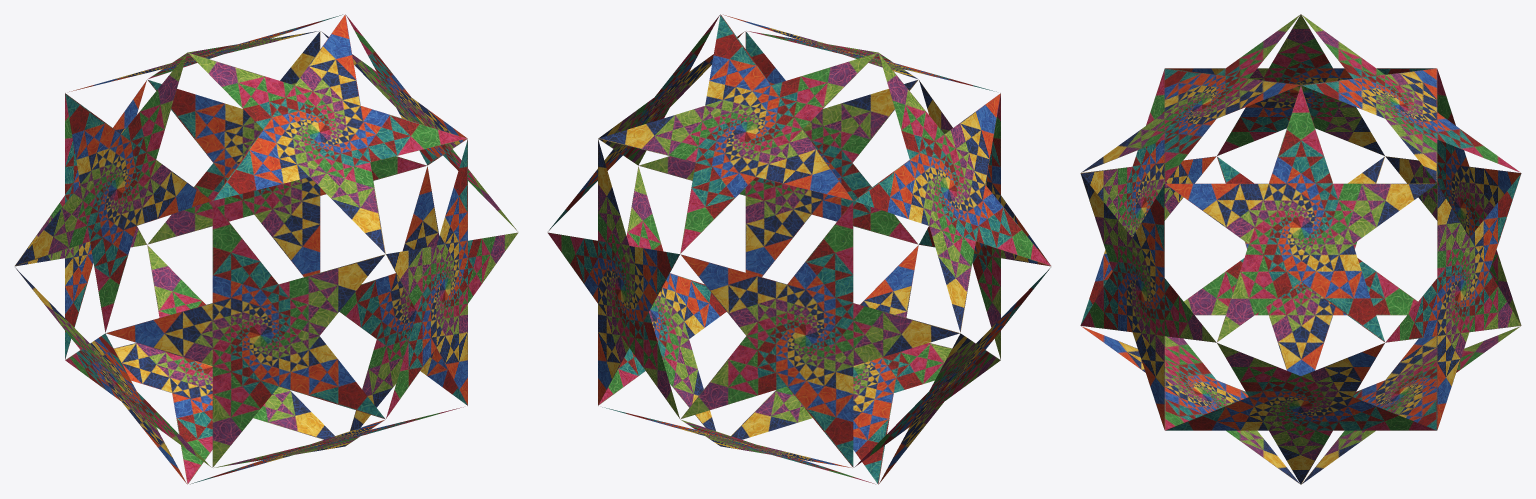
File: SmallDitrigonalIcosidodecahedron6.obj
The picture shows the model from 3 angles, left to right: view 1: azimuth 30°, elevation 25°; view 2: azimuth 150°, elevation 25°; view 3: azimuth 270°, elevation 25°; orthographic projection. The views are drawn at different scales.
Bounding box in the file's own units: 1.62 × 1.62 × 1.62.
Materials: 1 (1 with a texture image).
